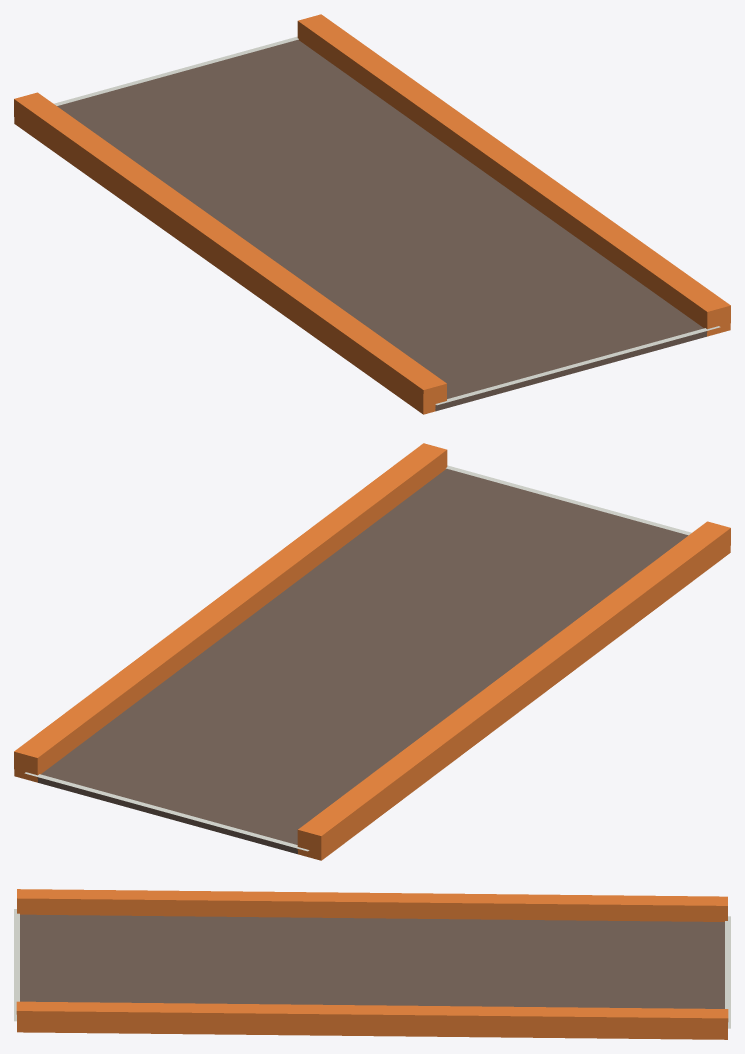
Rendered from SM_MP_Film_C_3_3.fbx.
3 renders of one model, top to bottom at view 1: azimuth 30°, elevation 25°; view 2: azimuth 150°, elevation 25°; view 3: azimuth 270°, elevation 25°, orthographic. The views are drawn at different scales.
Parts seen in each view (by area): view 1: SM_MP_Film_C_3_3; view 2: SM_MP_Film_C_3_3; view 3: SM_MP_Film_C_3_3.
Part boxes in pixels (bbox=[...]): SM_MP_Film_C_3_3: bbox=[14, 14, 730, 414]; SM_MP_Film_C_3_3: bbox=[14, 443, 730, 860]; SM_MP_Film_C_3_3: bbox=[14, 889, 730, 1039].
Size of what is drawn, in the model's own units: 260 by 605 by 34.76.
